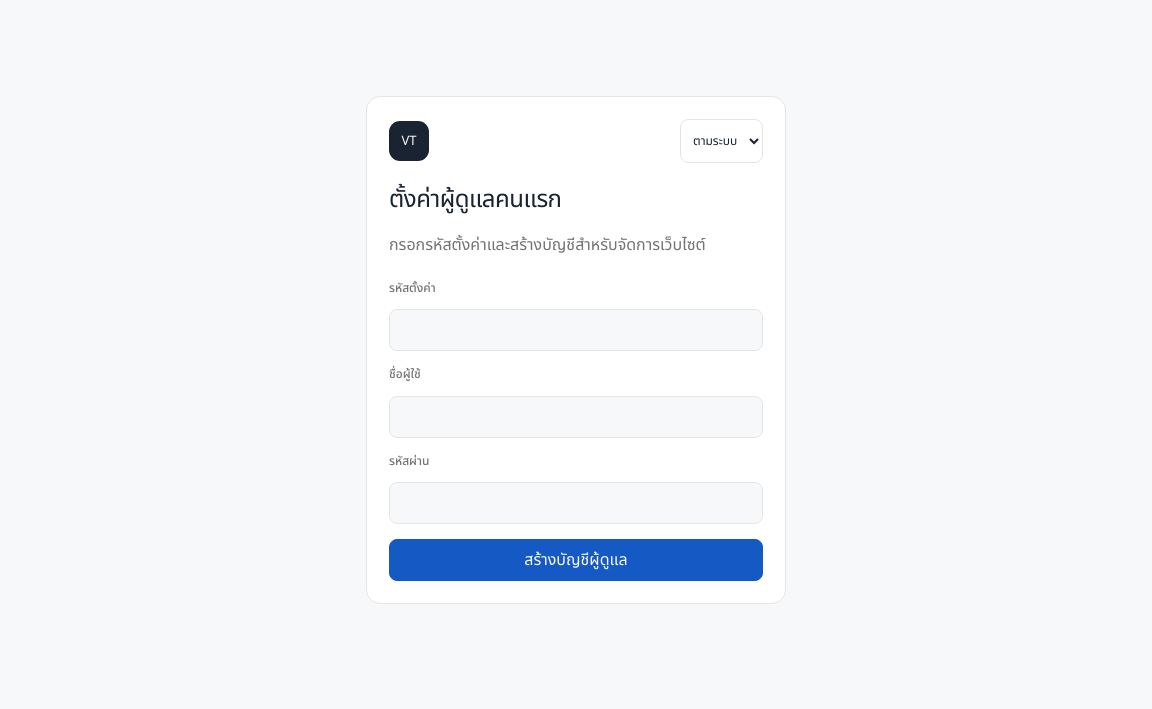
Test case: offers initial setup from the session response and enters admin after creating the manager
Expected: the heading "ตั้งค่าผู้ดูแลคนแรก" is shown, [389, 182, 562, 218]
In the password field labelled "รหัสตั้งค่า": (576, 330) [389, 309, 763, 351], type "private-setup-token"
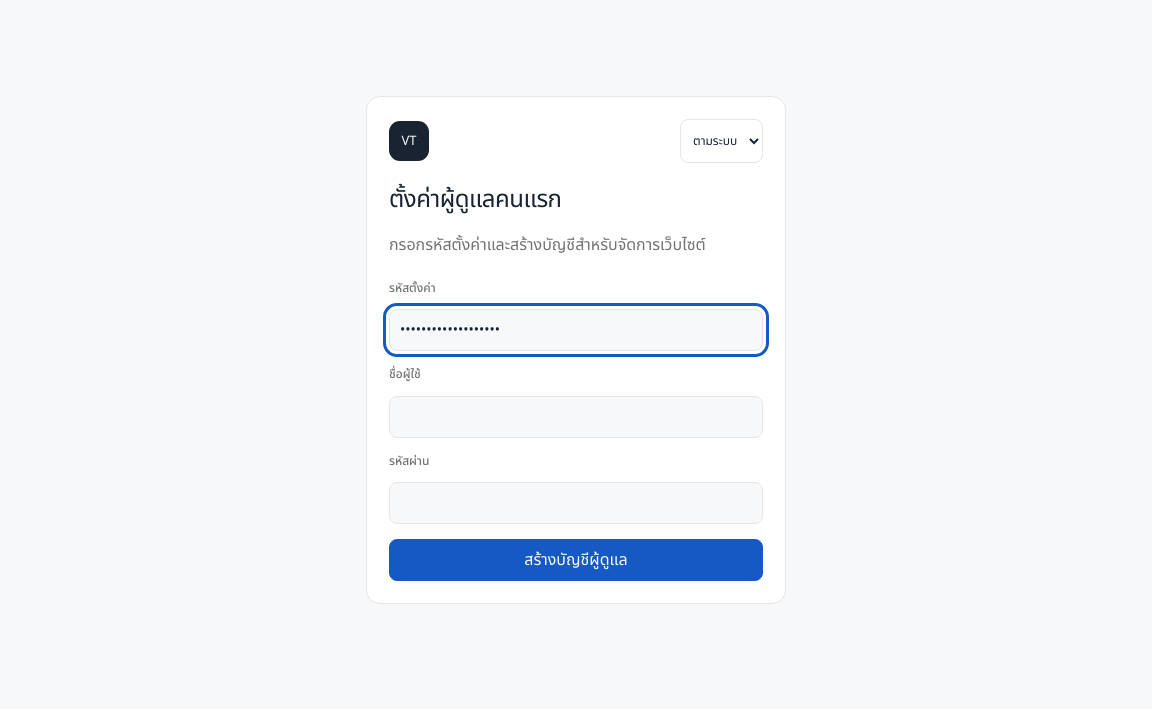
In the field labelled "ชื่อผู้ใช้": (576, 417) [389, 396, 763, 438], type "admin"
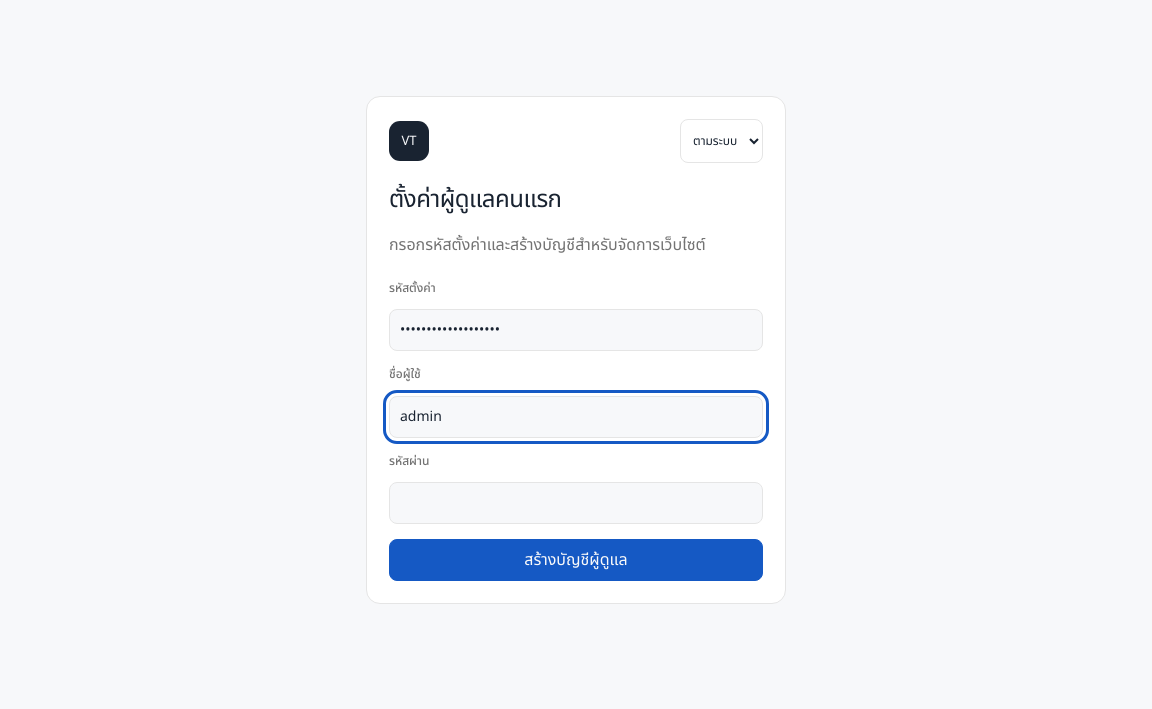
In the password field labelled "รหัสผ่าน": (576, 503) [389, 482, 763, 524], type "long-review-password"
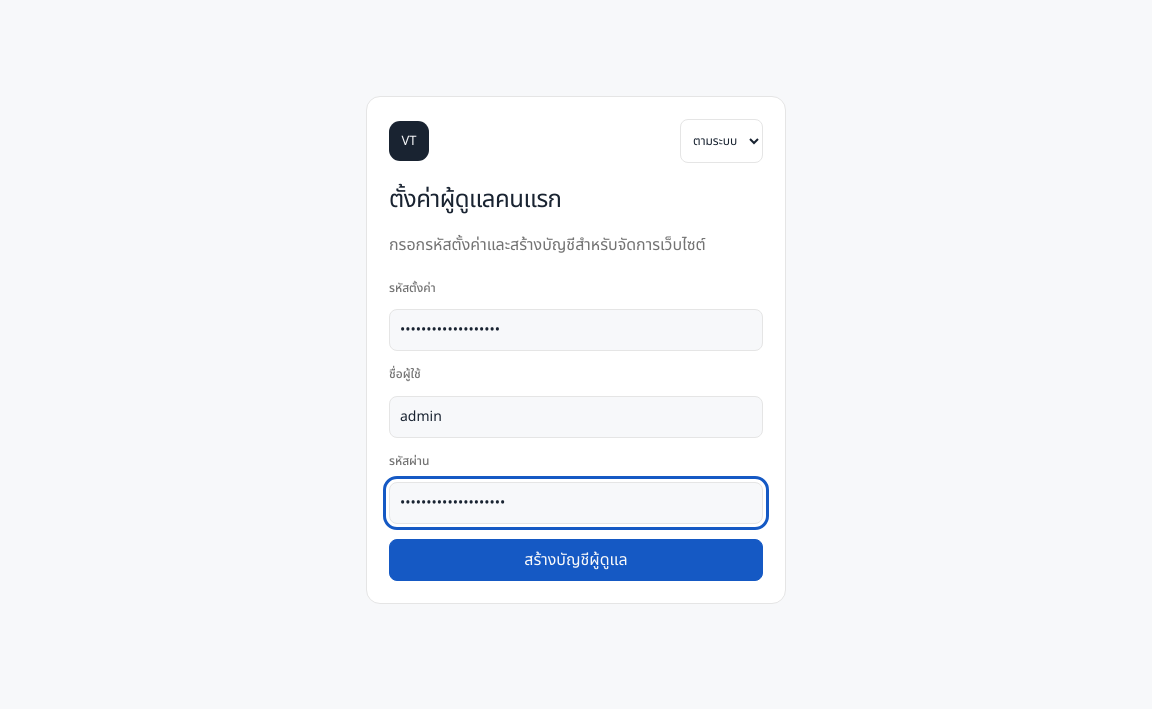
Click the button "สร้างบัญชีผู้ดูแล": (576, 560) [389, 539, 763, 581]
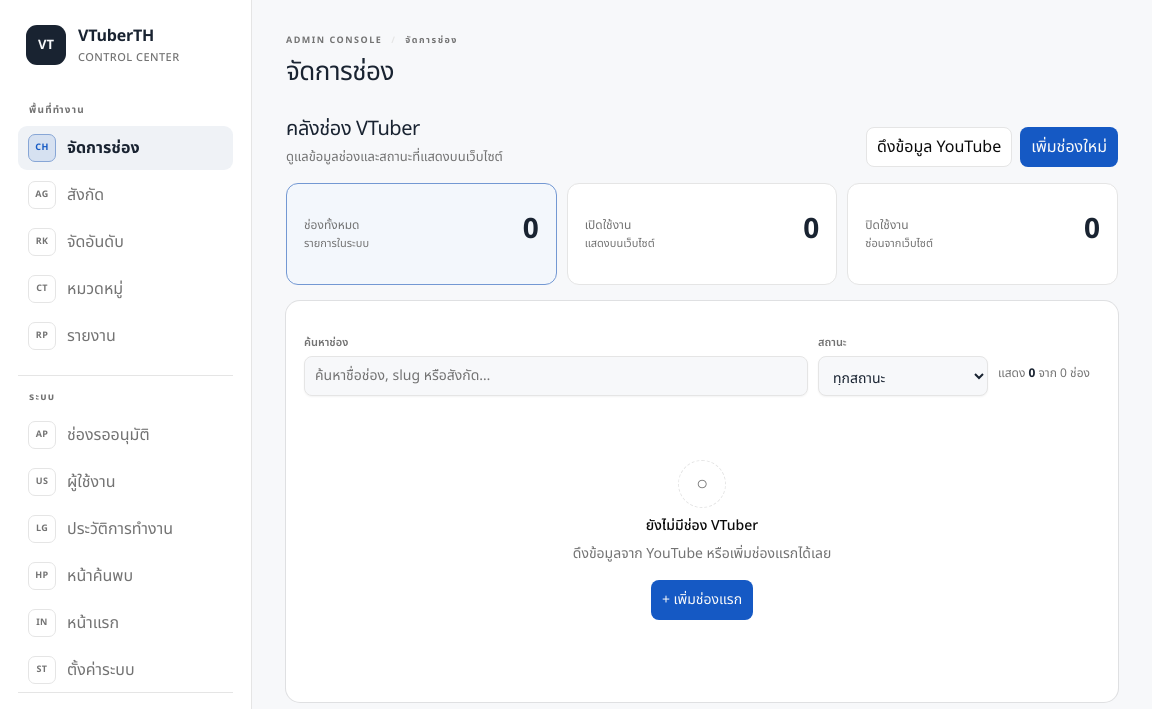
Now the heading "คลังช่อง VTuber" is shown, box [286, 114, 420, 144]
